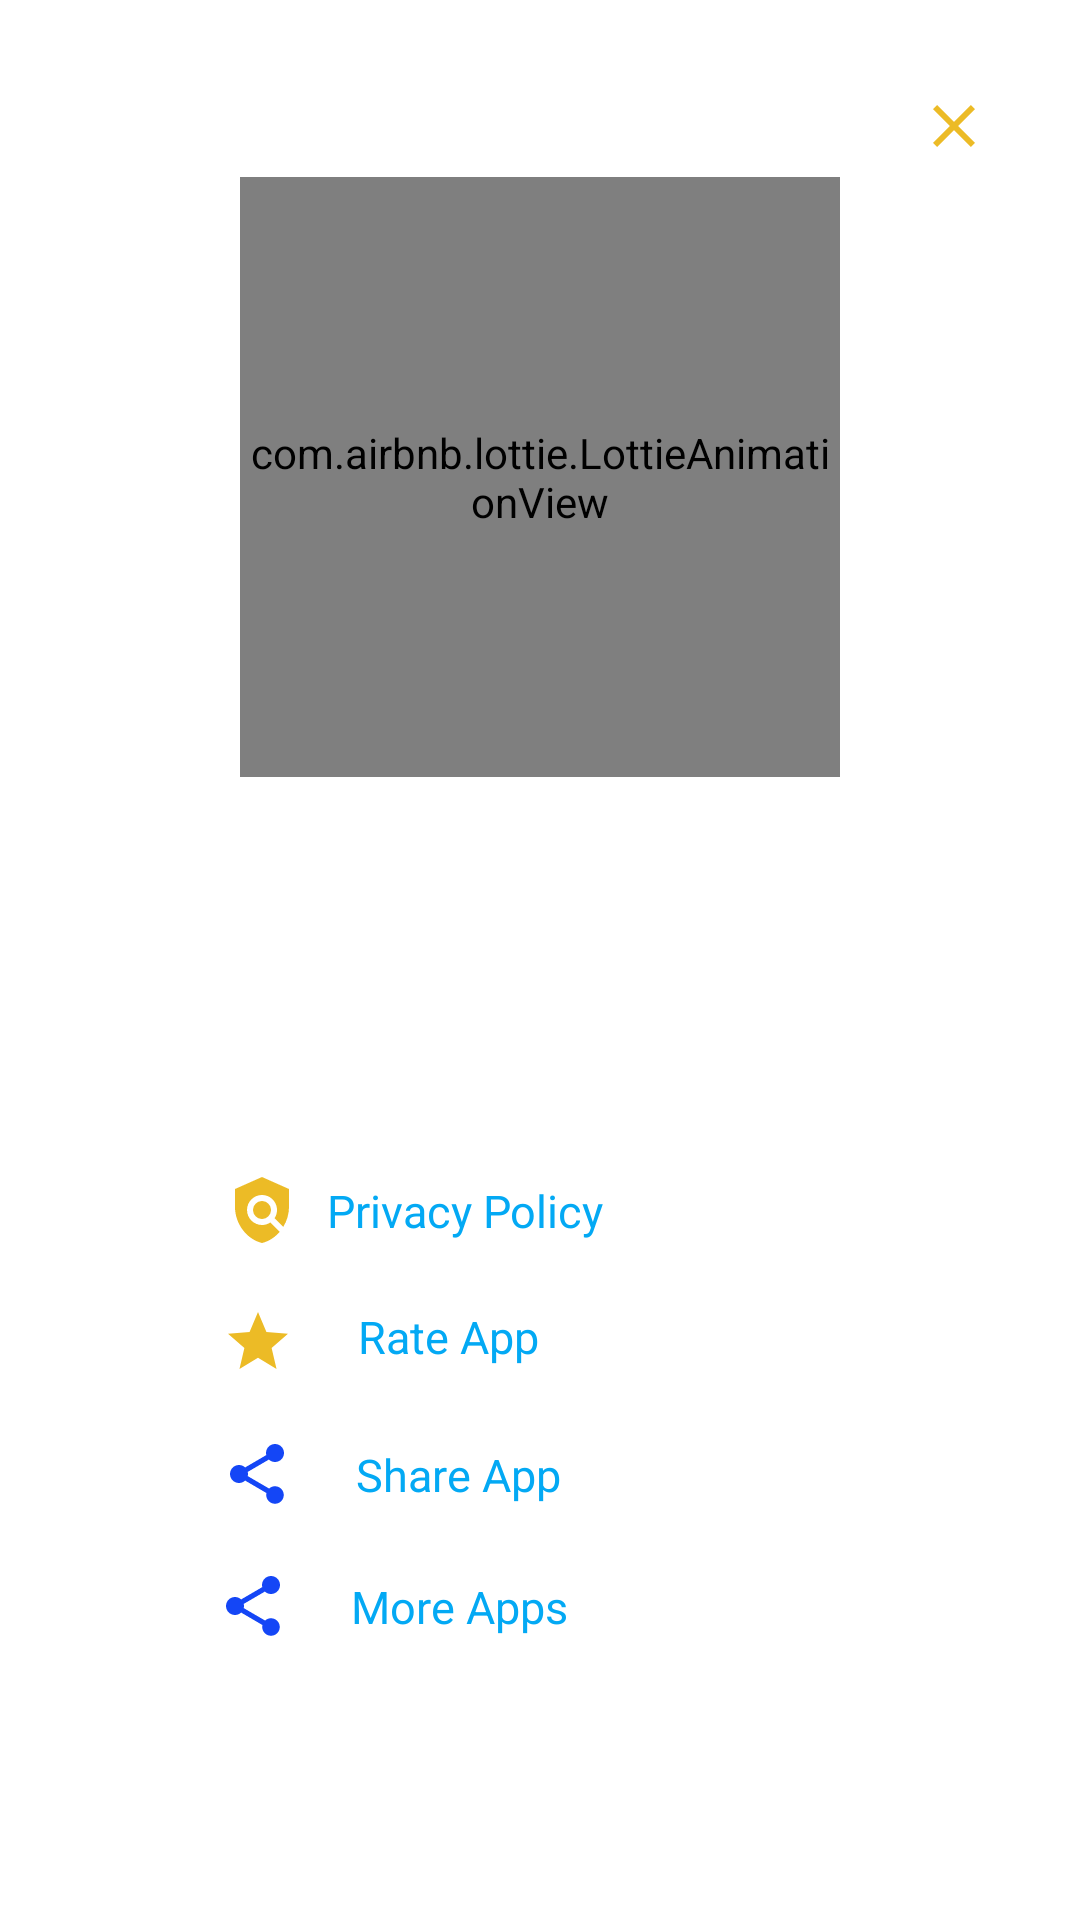

Named icons in this screenshot (1080 × 1920) and their bounding boxes, (x1, y1, x2, y2):
close: (933, 105, 975, 147)
